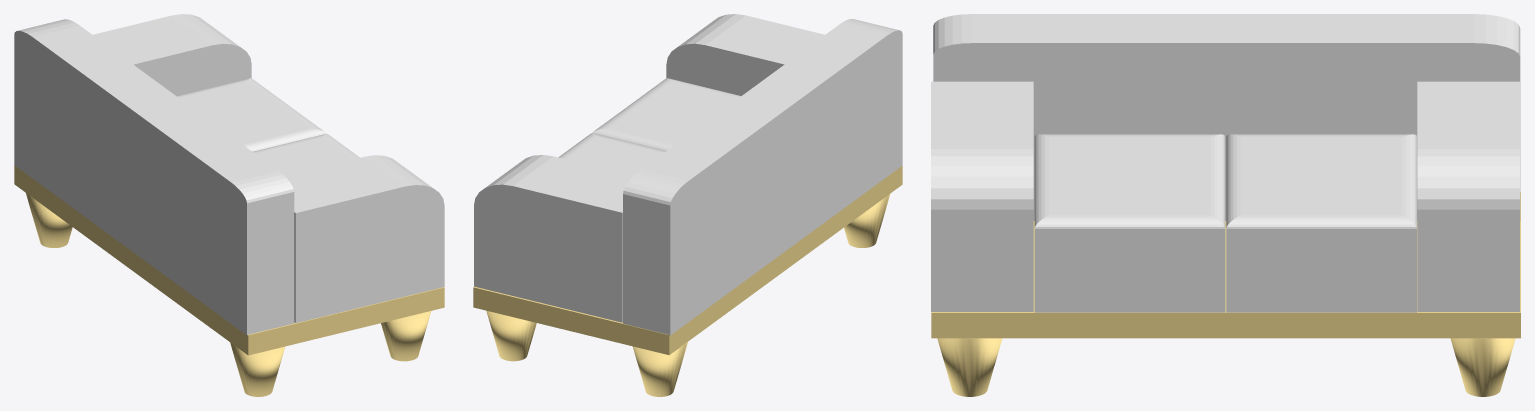
The model's file is sofa.fbx.
The picture shows the model from 3 angles, left to right: view 1: azimuth 30°, elevation 25°; view 2: azimuth 150°, elevation 25°; view 3: azimuth 270°, elevation 25°; orthographic projection. The views are drawn at different scales.
Visible parts, largest first — view 1: 立方体.005; view 2: 立方体.005; view 3: 立方体.005.
Part boxes in pixels (x1=…): 立方体.005: x1=14, y1=14, x2=444, y2=396; 立方体.005: x1=473, y1=14, x2=902, y2=396; 立方体.005: x1=931, y1=14, x2=1520, y2=396.
Bounding box in the file's own units: 300 × 310 × 615.
